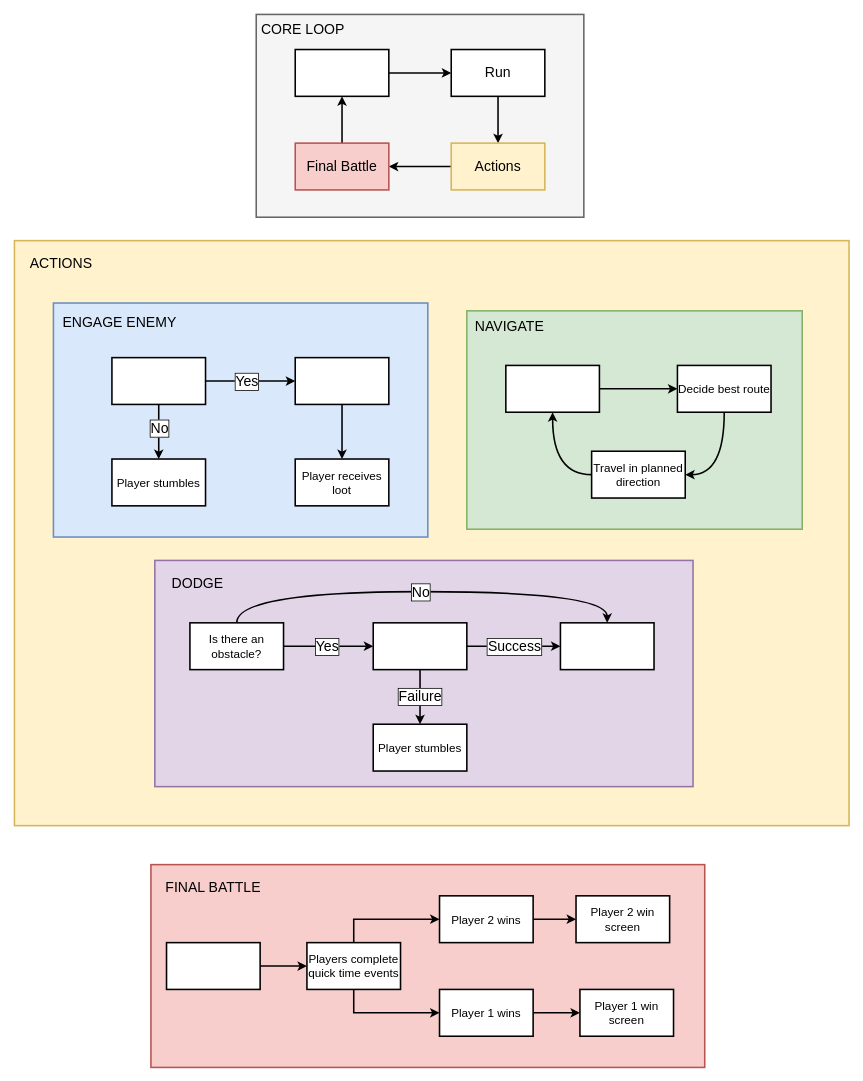
This 863x1081 diagram has some shape labels left out. The shapes that lost their labels are listed below. From the top down, each one's box as (x1, y1, x2, y2) in pixels, then its label:
(294, 48, 389, 97): Restart
(111, 356, 206, 405): Does player time attack well?
(294, 356, 389, 405): Enemy is defeated
(505, 364, 600, 413): Analyse map ahead
(372, 622, 467, 670): Attempt to dodge
(559, 622, 654, 670): Keep running
(165, 941, 261, 990): Players meet
